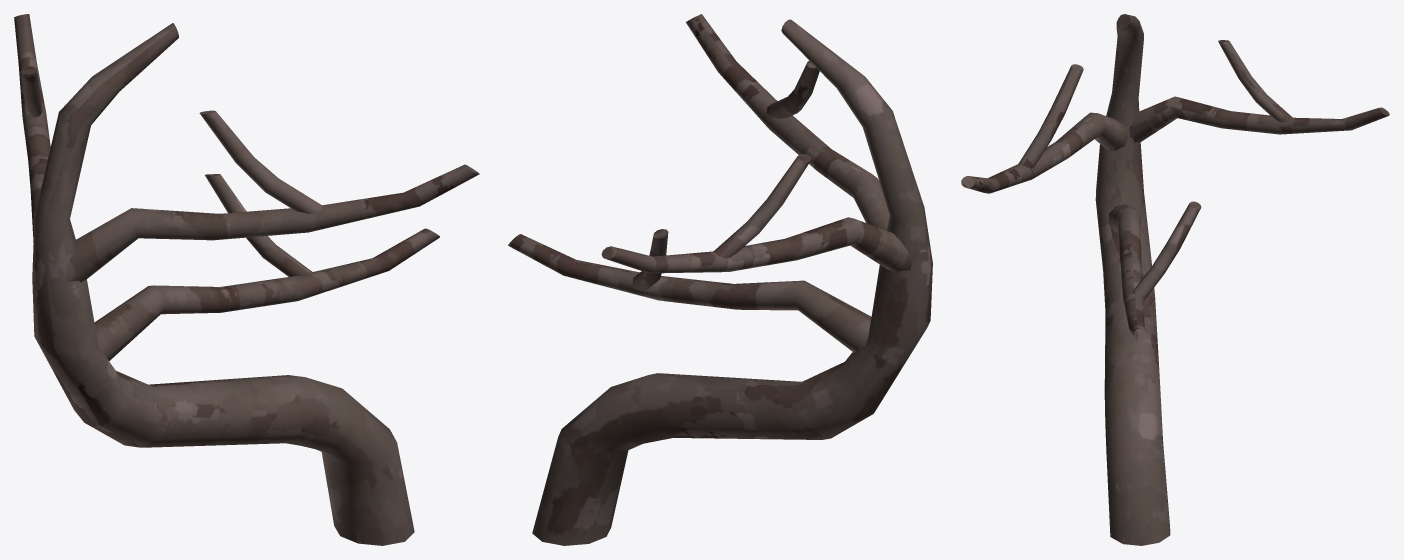
The model's file is deadtree_10.glb.
The picture shows the model from 3 angles, left to right: view 1: azimuth 30°, elevation 25°; view 2: azimuth 150°, elevation 25°; view 3: azimuth 270°, elevation 25°; orthographic projection. The views are drawn at different scales.
Visible parts, largest first — view 1: DeadTree_10; view 2: DeadTree_10; view 3: DeadTree_10.
Boxes of the visible parts, x1,y1,x2,y2 form: DeadTree_10: (14, 14, 479, 545); DeadTree_10: (508, 14, 932, 545); DeadTree_10: (961, 14, 1389, 545).
Size of the model in its own units: 3.34 by 4.35 by 3.85.
Materials: 1 (1 with a texture image).
